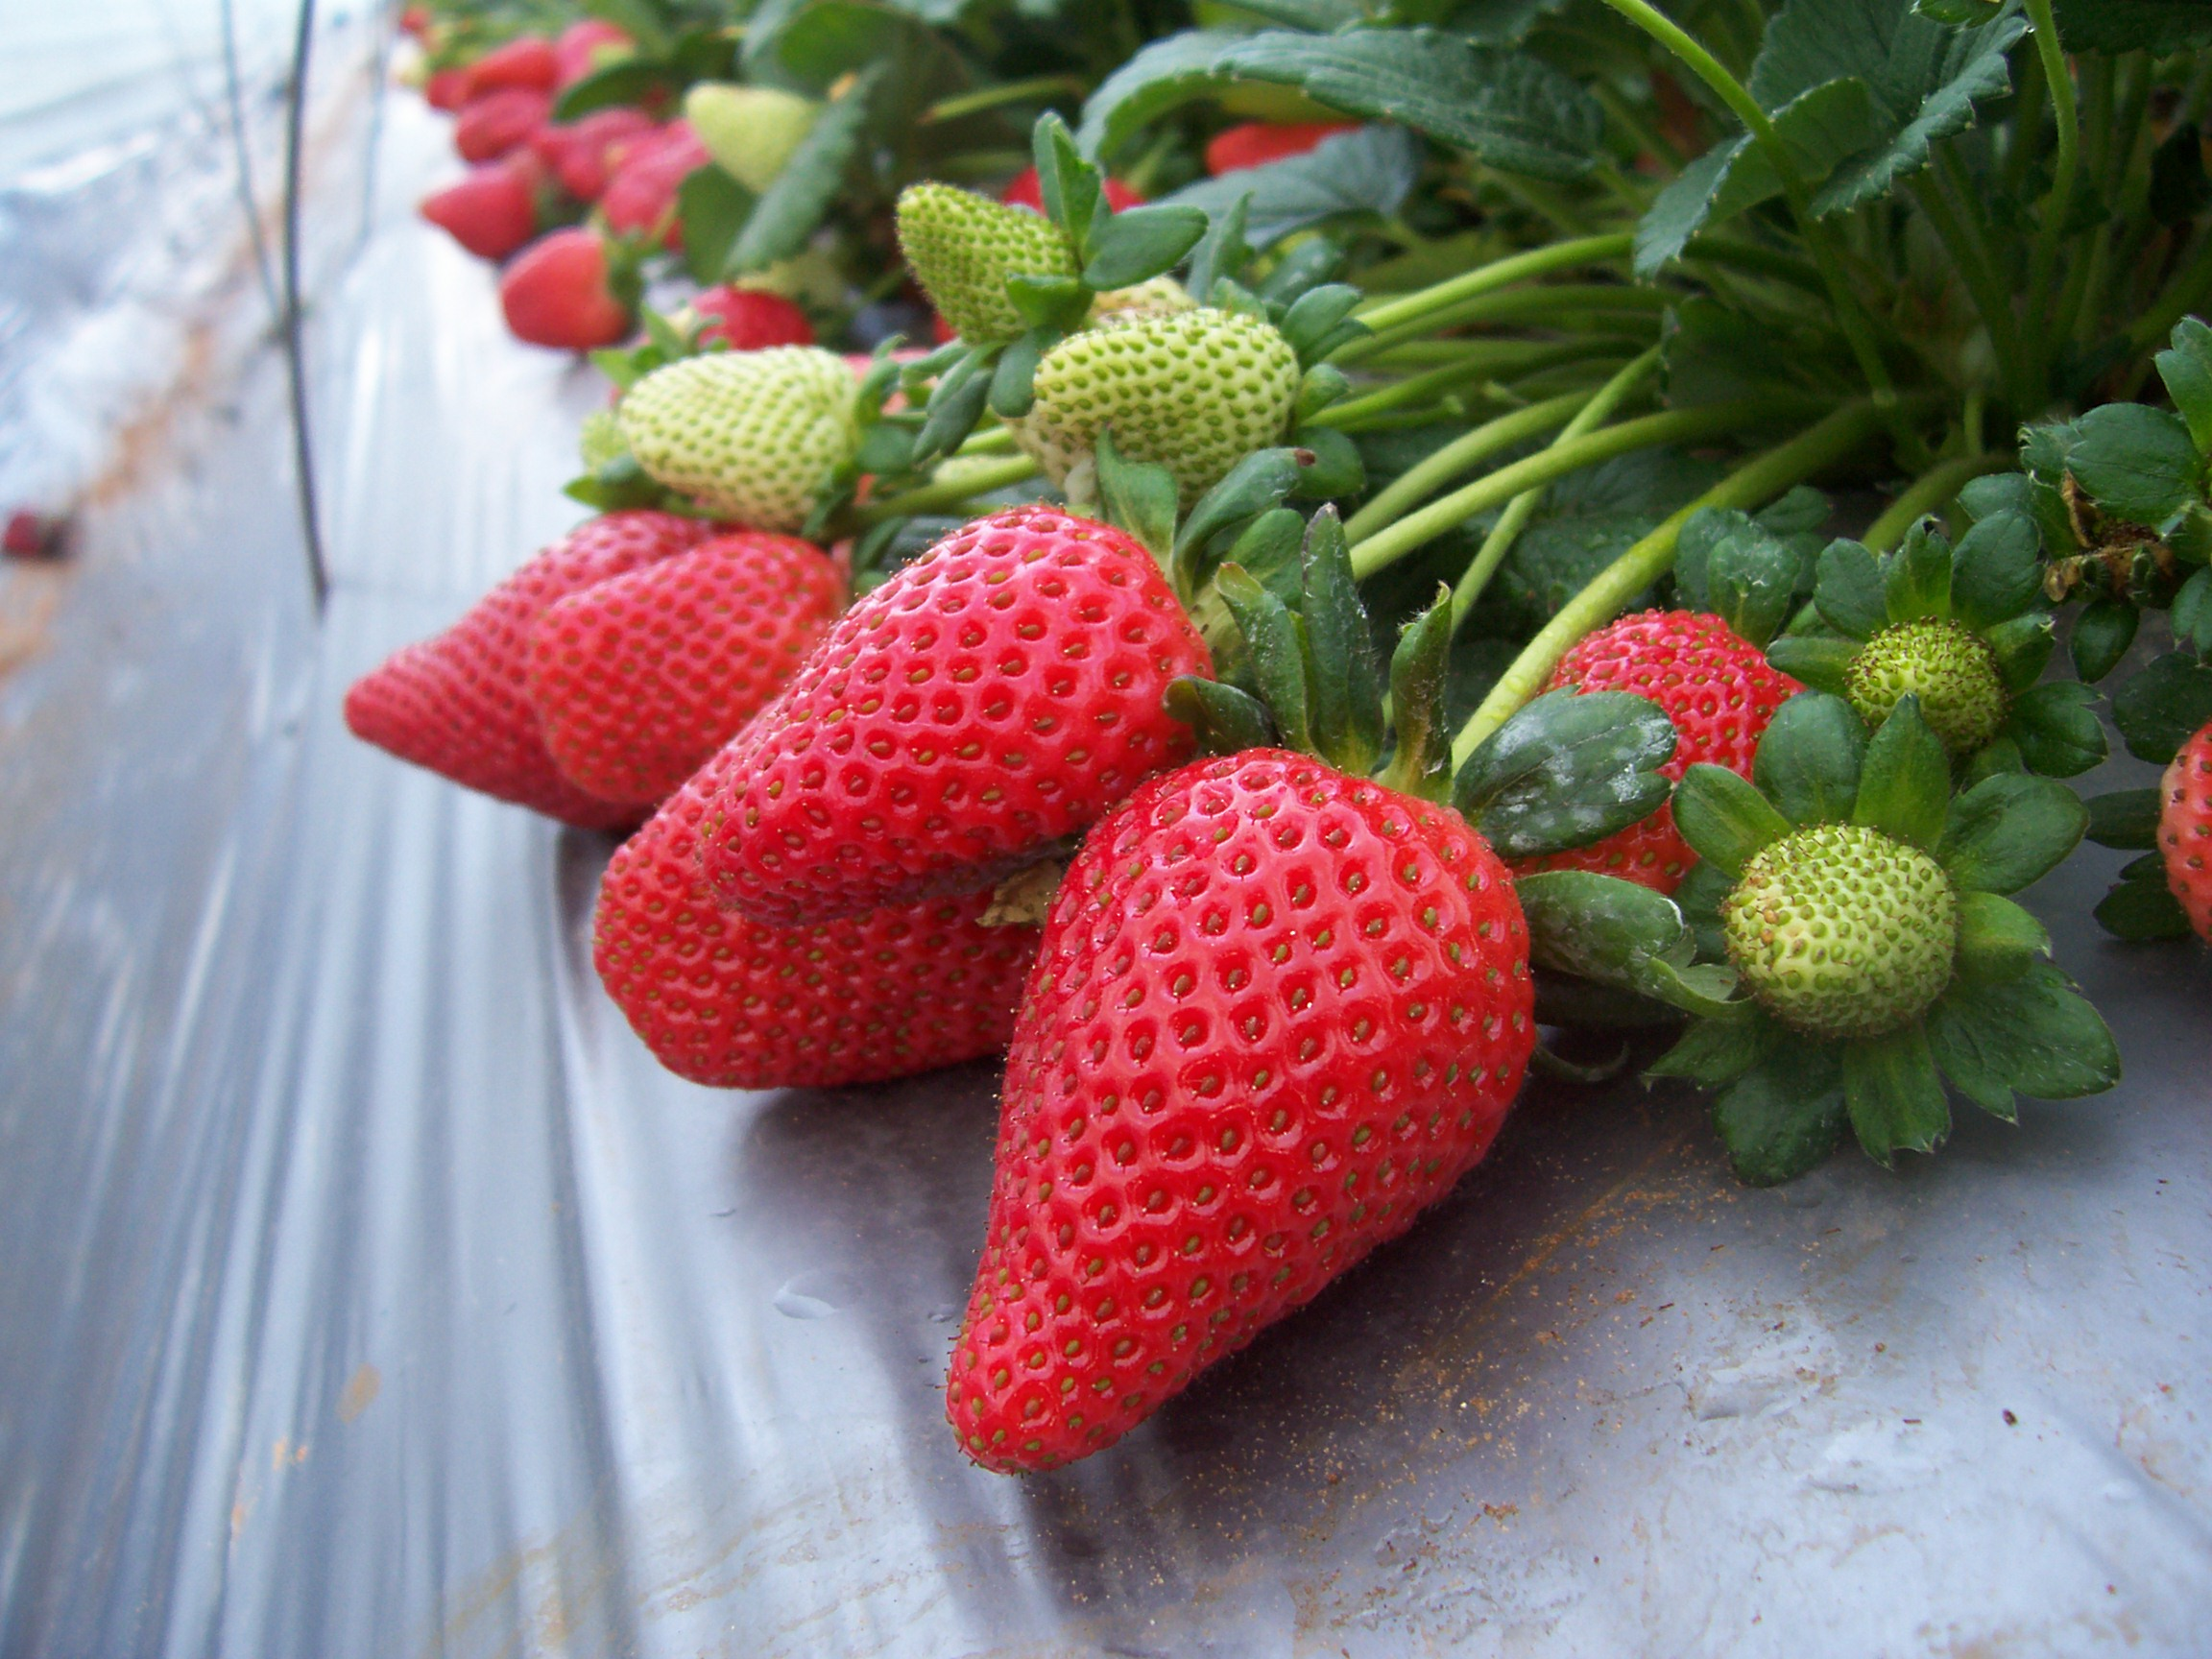ripe_strawberry: (937, 742, 1550, 1478), (688, 495, 1223, 931), (596, 690, 1054, 1098), (340, 505, 725, 838), (1500, 608, 1820, 917), (526, 530, 852, 816), (927, 166, 1150, 350), (610, 284, 822, 411), (498, 228, 646, 352), (2153, 718, 2212, 964), (603, 139, 728, 253), (411, 157, 545, 258), (1205, 110, 1379, 181), (556, 117, 660, 200), (444, 96, 556, 173), (456, 37, 563, 108), (547, 17, 634, 91), (423, 70, 481, 106)
unripe_strawberry: (1724, 819, 1961, 1040), (1033, 308, 1305, 491), (996, 270, 1212, 497), (620, 347, 857, 532), (895, 183, 1076, 345), (1848, 617, 2005, 760), (686, 80, 826, 195), (592, 44, 641, 71)
